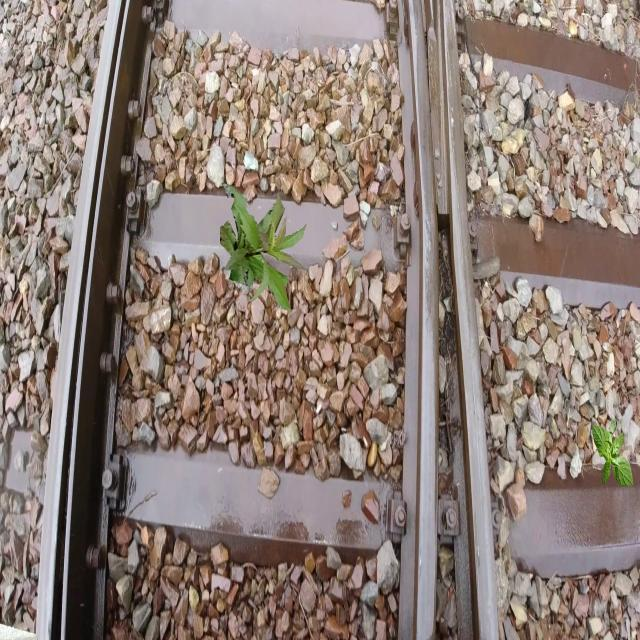Plant: (220, 183, 308, 313), (592, 419, 634, 490)
